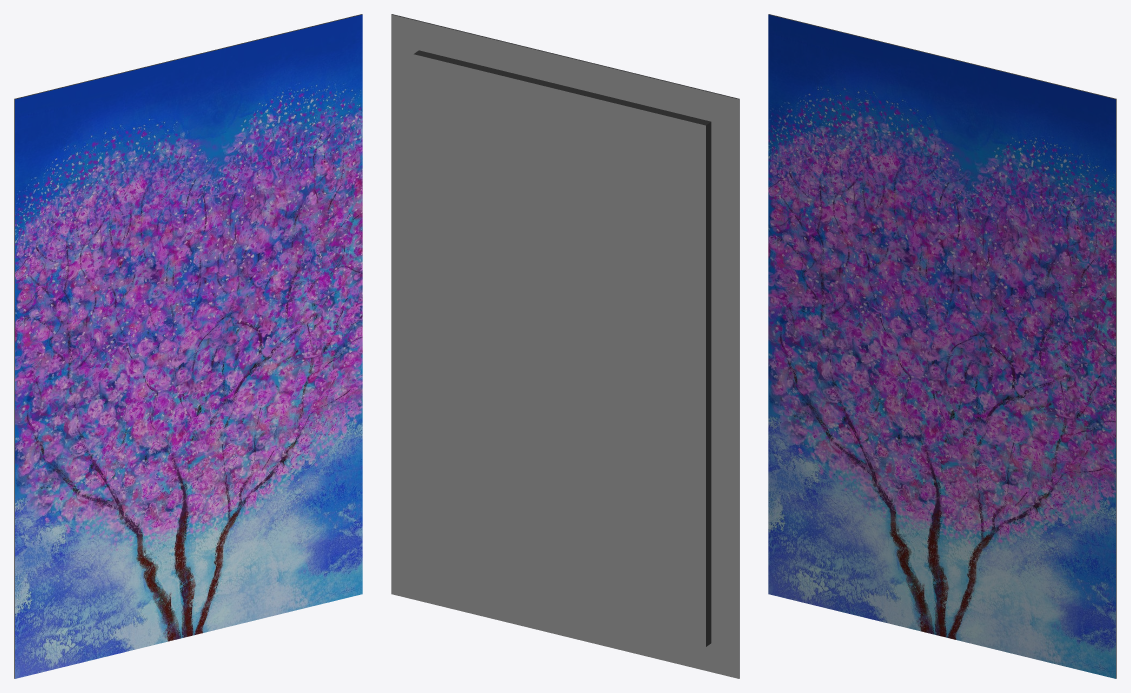
The model's file is os002_grand_dibond.glb.
3 renders of one model, left to right at view 1: azimuth 30°, elevation 25°; view 2: azimuth 150°, elevation 25°; view 3: azimuth 330°, elevation 25°, orthographic.
Parts seen in each view (by area): view 1: os002_grand_dibond; view 2: os002_grand_dibond; view 3: os002_grand_dibond.
Boxes of the visible parts, x1,y1,x2,y2 form: os002_grand_dibond: [14, 14, 362, 678]; os002_grand_dibond: [391, 14, 739, 678]; os002_grand_dibond: [768, 14, 1116, 678].
Bounding box in the file's own units: 0.7537 × 1.2 × 0.023.
Materials: 4 (1 with a texture image).
